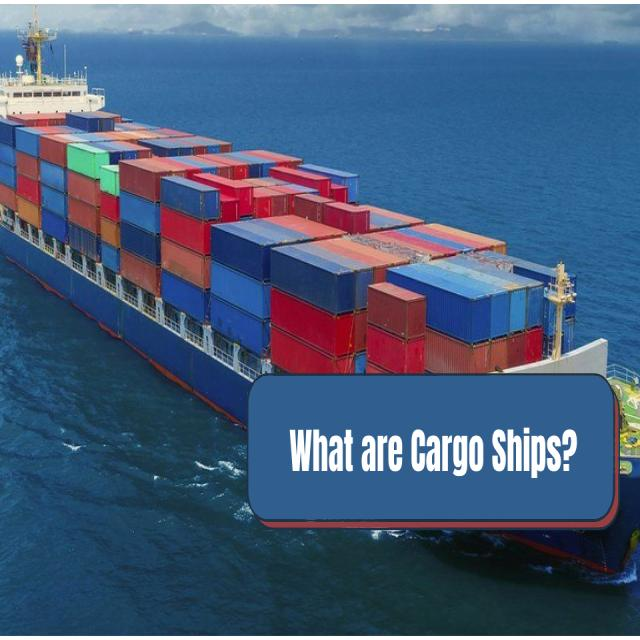boat: (1, 48, 640, 600)
